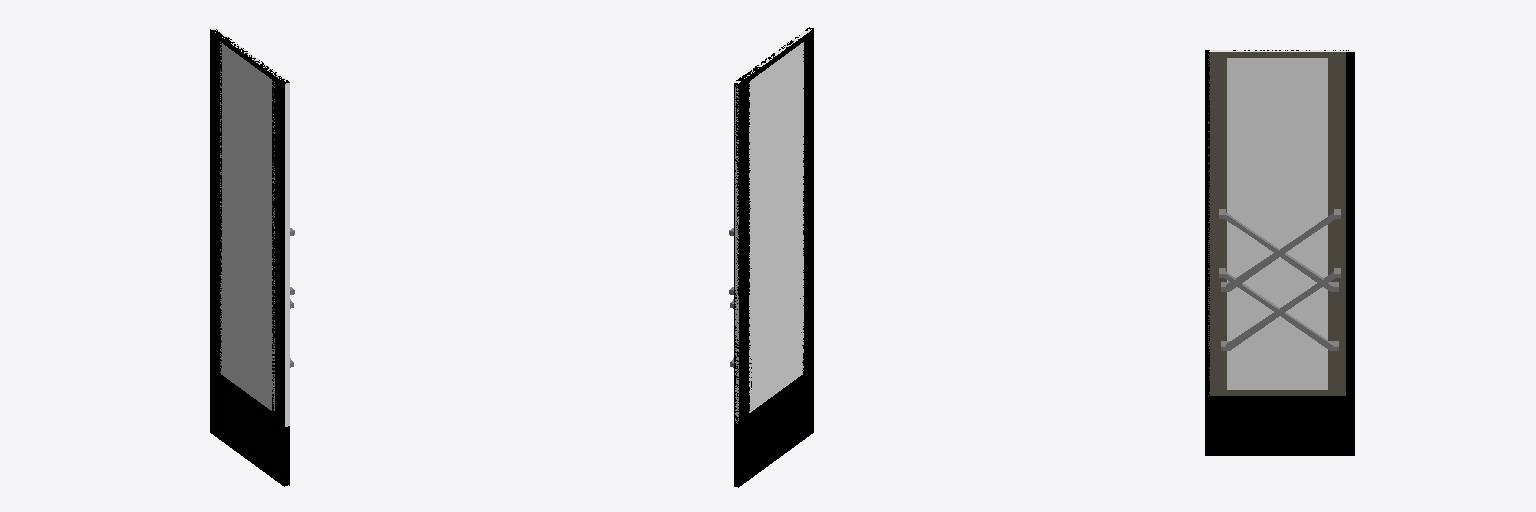
The model's file is doors.obj.
The picture shows the model from 3 angles: view 1: azimuth 30°, elevation 25°; view 2: azimuth 150°, elevation 25°; view 3: azimuth 270°, elevation 25°; orthographic projection.
Parts seen in each view (by area): view 1: frontRight, rearLeft, rearRight, frontLeft; view 2: frontRight, frontLeft, rearRight, rearLeft; view 3: frontLeft, rearLeft, frontRight, rearRight.
Boxes of the visible parts, <box> form: frontRight: <box>213,29,291,486</box>; rearLeft: <box>212,29,294,481</box>; rearRight: <box>212,28,293,485</box>; frontLeft: <box>210,27,292,468</box>; frontRight: <box>731,27,813,479</box>; frontLeft: <box>734,30,810,487</box>; rearRight: <box>729,29,811,485</box>; rearLeft: <box>730,33,811,424</box>; frontLeft: <box>1210,50,1354,455</box>; rearLeft: <box>1208,54,1351,455</box>; frontRight: <box>1205,50,1348,455</box>; rearRight: <box>1208,51,1340,454</box>.
Size of the model in its own units: 0.0934 by 2.15 by 0.7258.